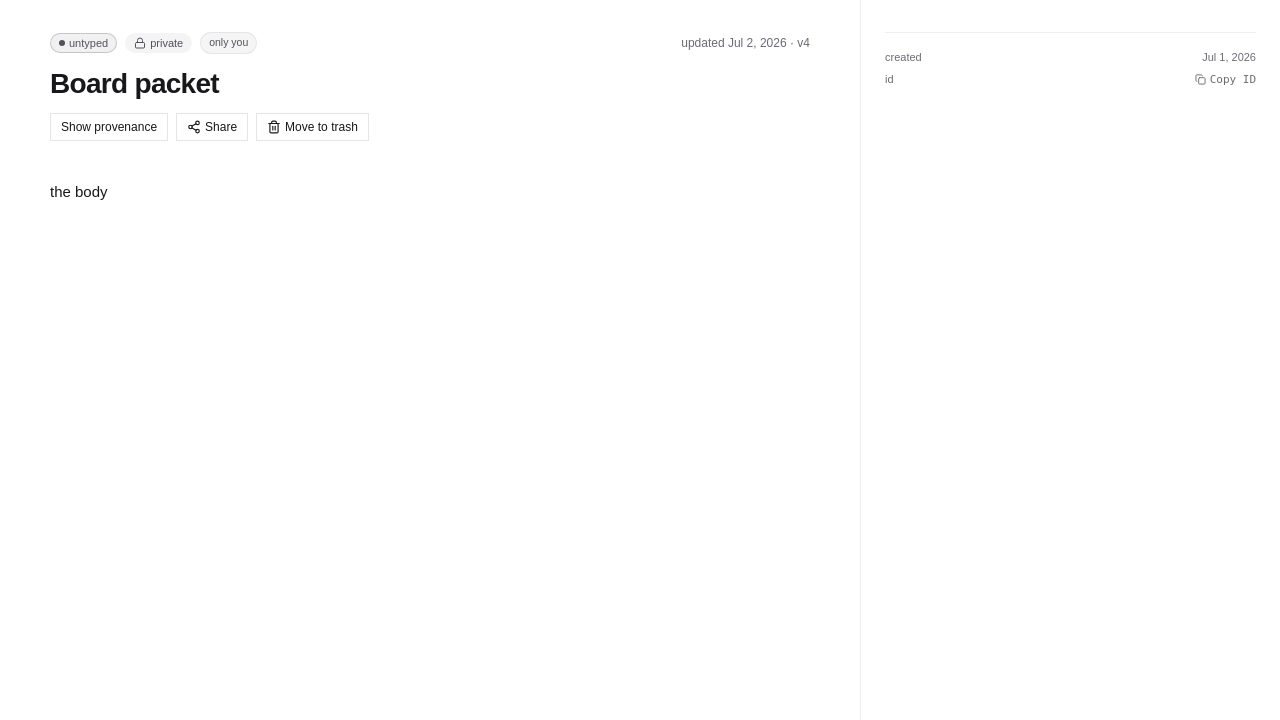
Test: <ObjectView /> share sheet › a fully private object offers no reset — just says so
The width and height of the screenshot is (1280, 720).
Expected: the text box "the body" is shown, [50, 183, 108, 200]
Click the button "Share" at (212, 127), box [176, 113, 248, 141]
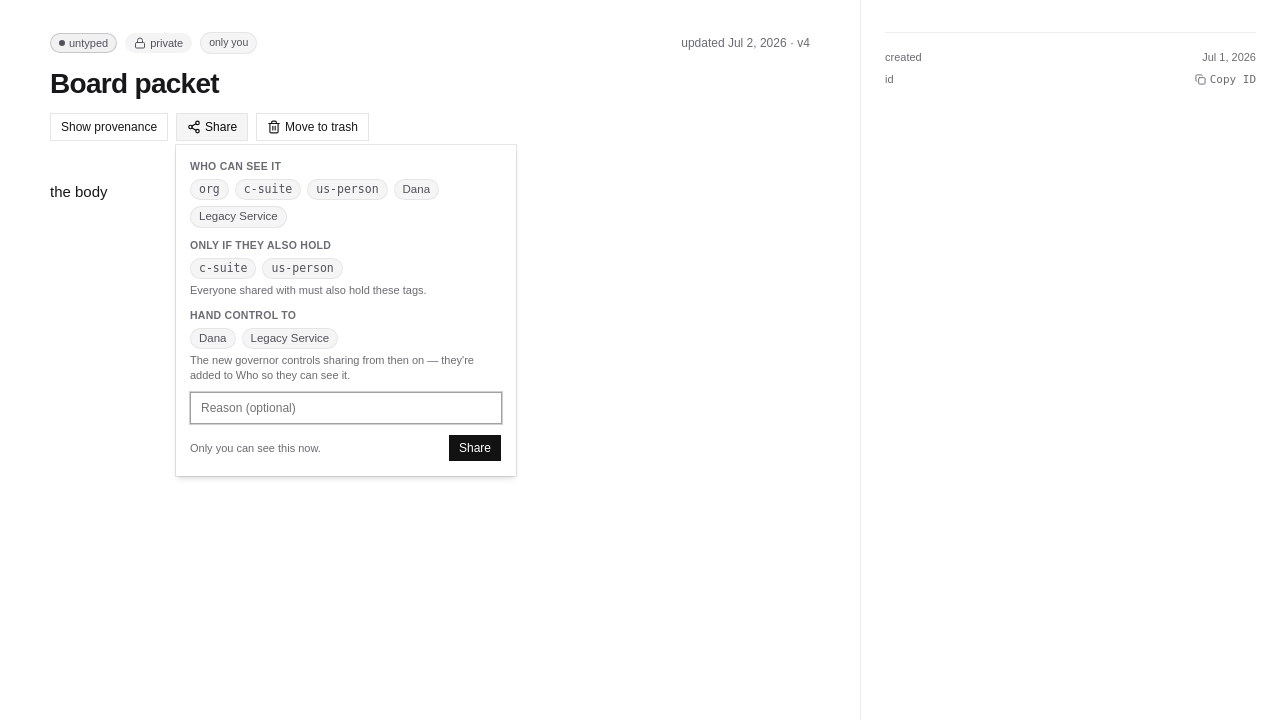
Expected: the element named "Who" is shown, [190, 179, 439, 228]
Expected: the text "Only you can see this now." is shown, [190, 441, 321, 456]
